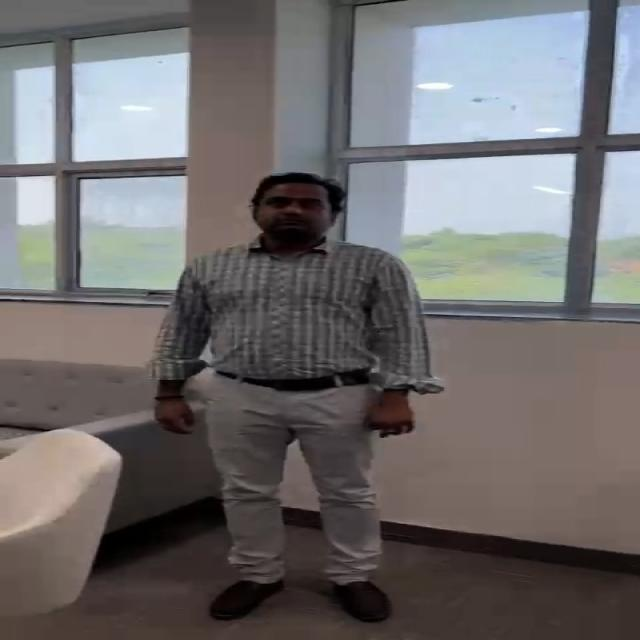floor: (454, 530, 640, 640)
furniture: (0, 347, 236, 506), (3, 427, 112, 618)
moving_object: (198, 174, 445, 618)
wall: (0, 0, 640, 186), (440, 324, 640, 509)
